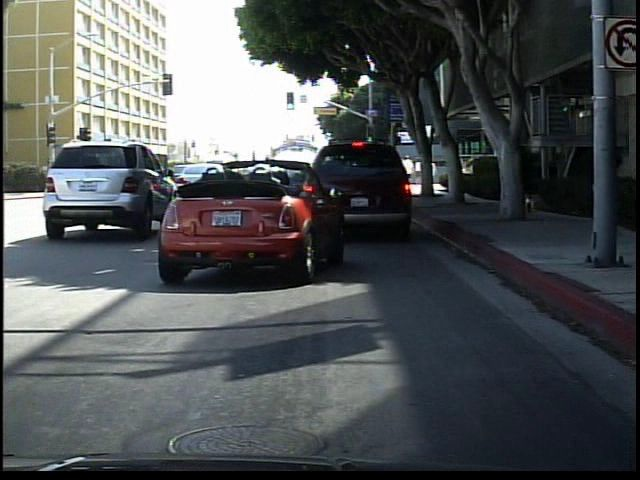person: (580, 132, 623, 240), (513, 141, 544, 222)
